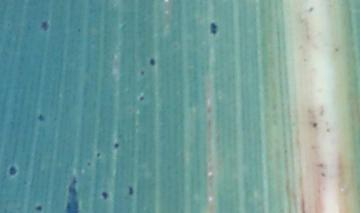tarspot: (65, 176, 78, 213), (7, 164, 18, 177), (209, 20, 218, 35), (41, 20, 50, 32), (310, 119, 319, 129), (37, 113, 46, 122), (148, 58, 157, 67), (101, 190, 109, 200), (137, 94, 146, 102), (128, 185, 134, 196), (307, 5, 315, 13), (139, 68, 146, 77), (325, 124, 331, 134), (85, 159, 92, 167), (113, 141, 120, 149), (318, 161, 325, 169), (95, 151, 102, 158), (333, 46, 340, 53), (319, 172, 327, 178), (37, 206, 43, 211)
